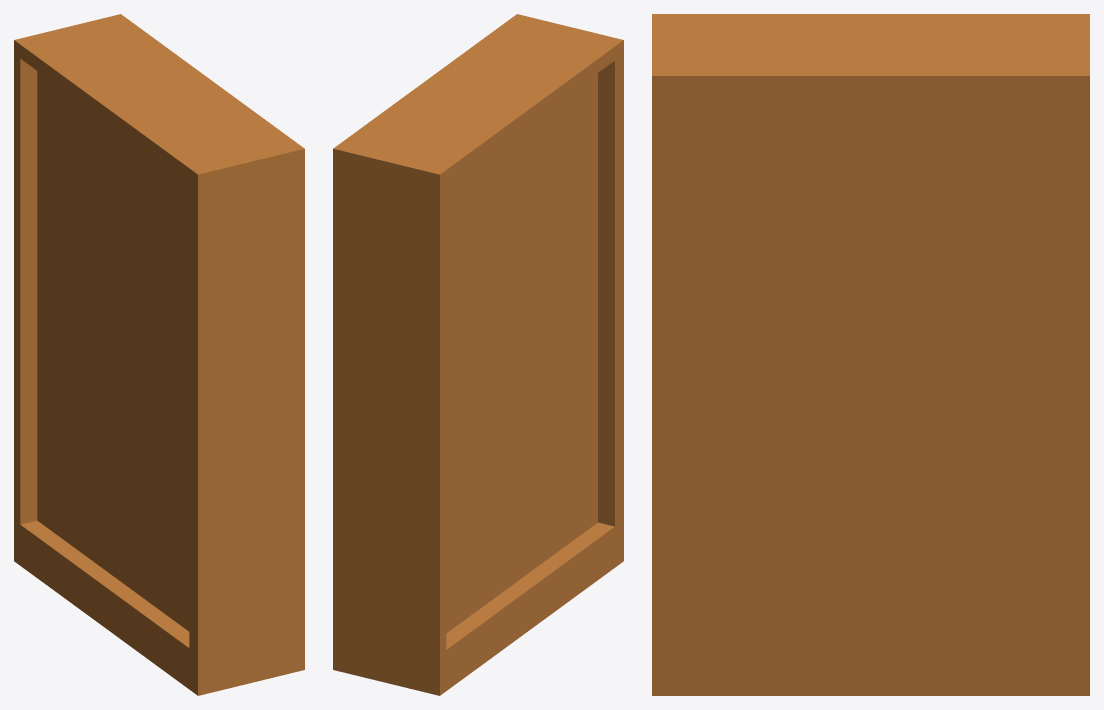
File: Right centre.fbx
3 renders of one model, left to right at view 1: azimuth 30°, elevation 25°; view 2: azimuth 150°, elevation 25°; view 3: azimuth 270°, elevation 25°, orthographic. The views are drawn at different scales.
Visible parts, largest first — view 1: polySurface111; view 2: polySurface111; view 3: polySurface111.
Part boxes in pixels (x1,y1,x2,y2): polySurface111: [14, 14, 304, 695]; polySurface111: [333, 14, 623, 695]; polySurface111: [652, 14, 1089, 695].
Size of the model in its own units: 2.07 by 9.64 by 6.17.
1 material, 1 textured.
